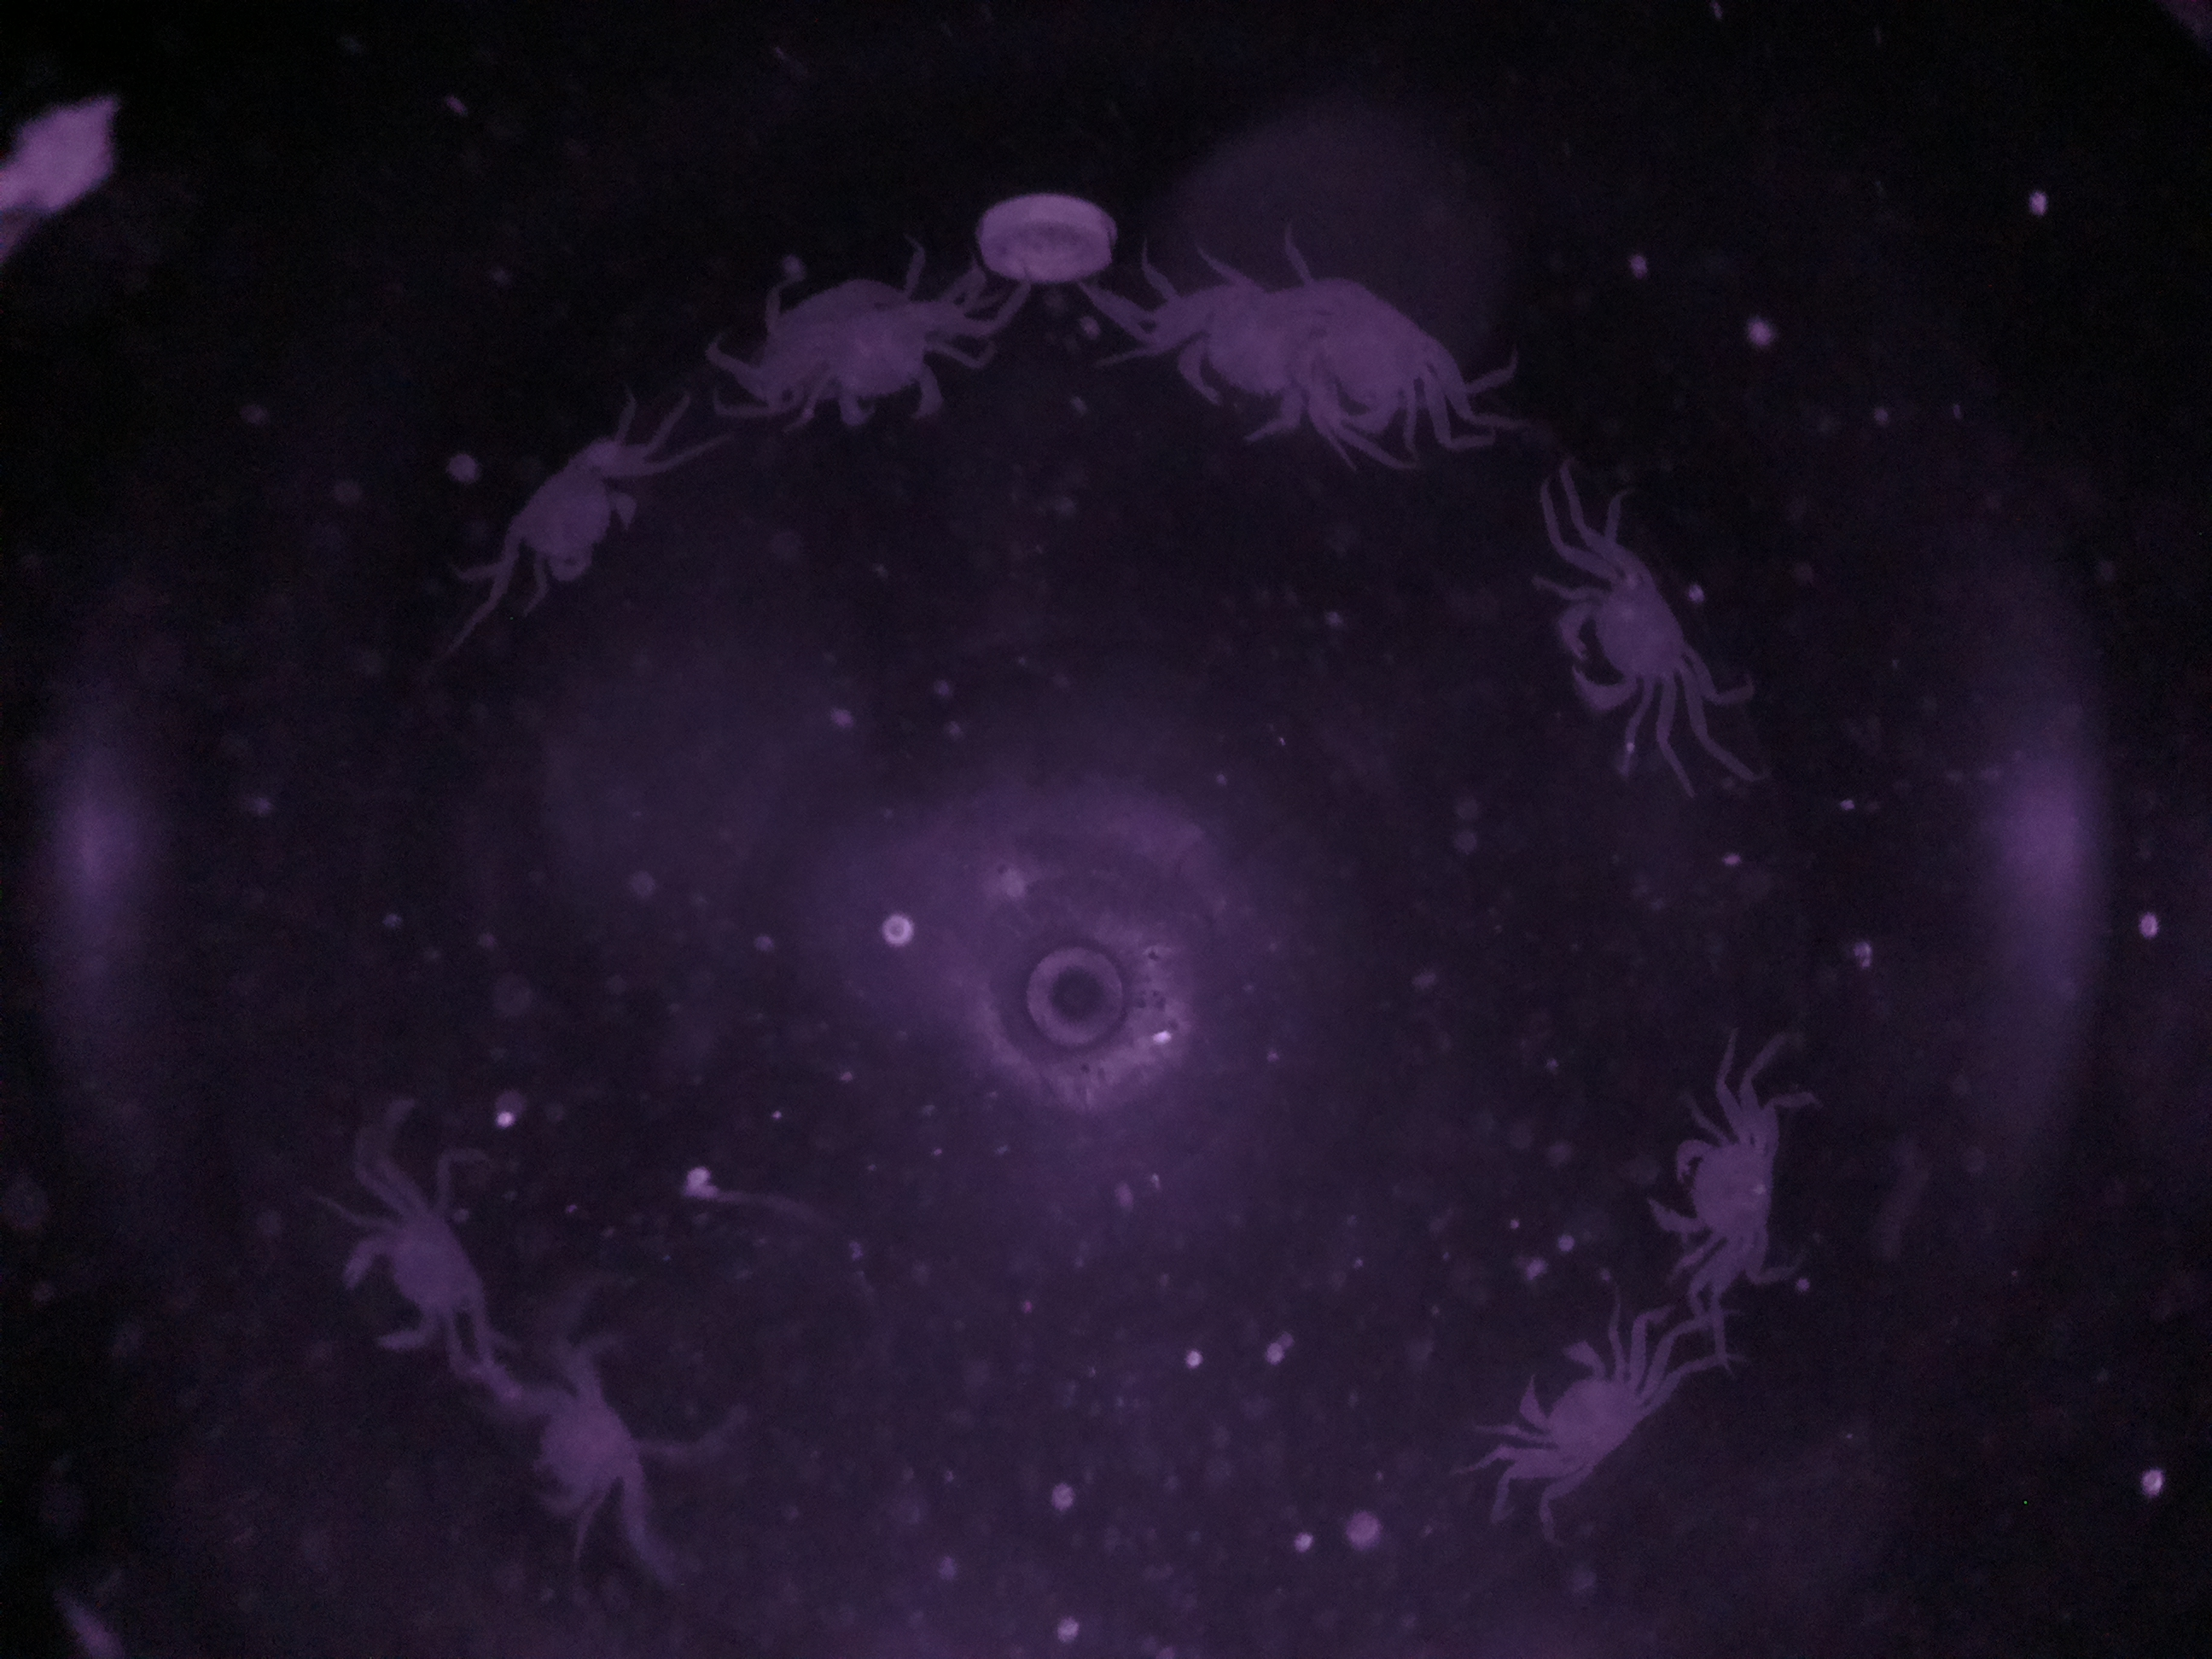Crab: (1534, 540, 1710, 739), (1635, 1096, 1797, 1286), (1493, 1314, 1655, 1504)
